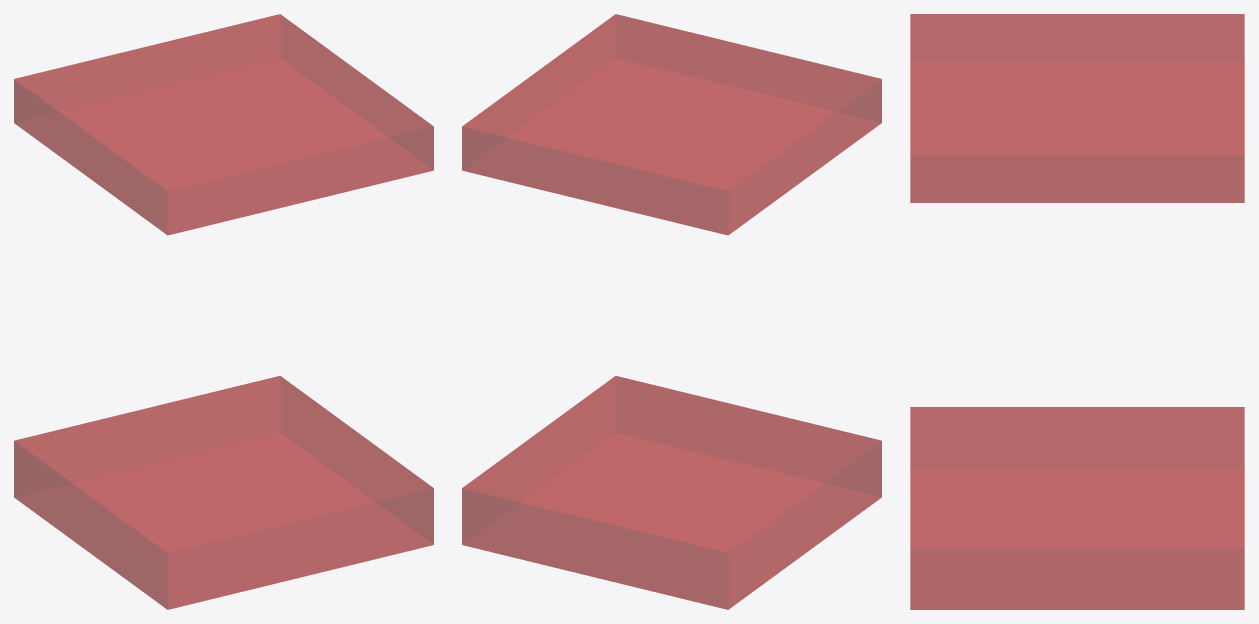
File: SM_Env_Motorway_Tunnel_Middle_02_Collision.fbx
The picture shows the model from 3 angles, left to right: view 1: azimuth 30°, elevation 25°; view 2: azimuth 150°, elevation 25°; view 3: azimuth 270°, elevation 25°; orthographic projection. The views are drawn at different scales.
Parts seen in each view (by area): view 1: SM_Env_Motorway_Tunnel_Middle_02_Collision; view 2: SM_Env_Motorway_Tunnel_Middle_02_Collision; view 3: SM_Env_Motorway_Tunnel_Middle_02_Collision.
Part boxes in pixels (x1,y1,x2,y2): SM_Env_Motorway_Tunnel_Middle_02_Collision: [14, 14, 433, 609]; SM_Env_Motorway_Tunnel_Middle_02_Collision: [462, 14, 881, 609]; SM_Env_Motorway_Tunnel_Middle_02_Collision: [910, 14, 1244, 609].
Size of the model in its own units: 500 by 751 by 500.
